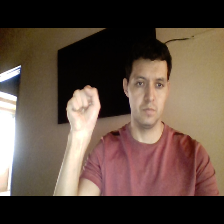9D: (60, 81, 106, 138)
